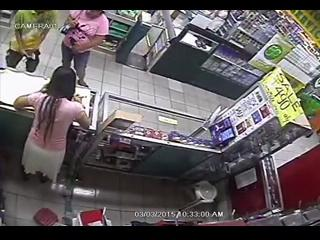Normal: (12, 66, 92, 191), (60, 10, 110, 88), (5, 10, 58, 74)
